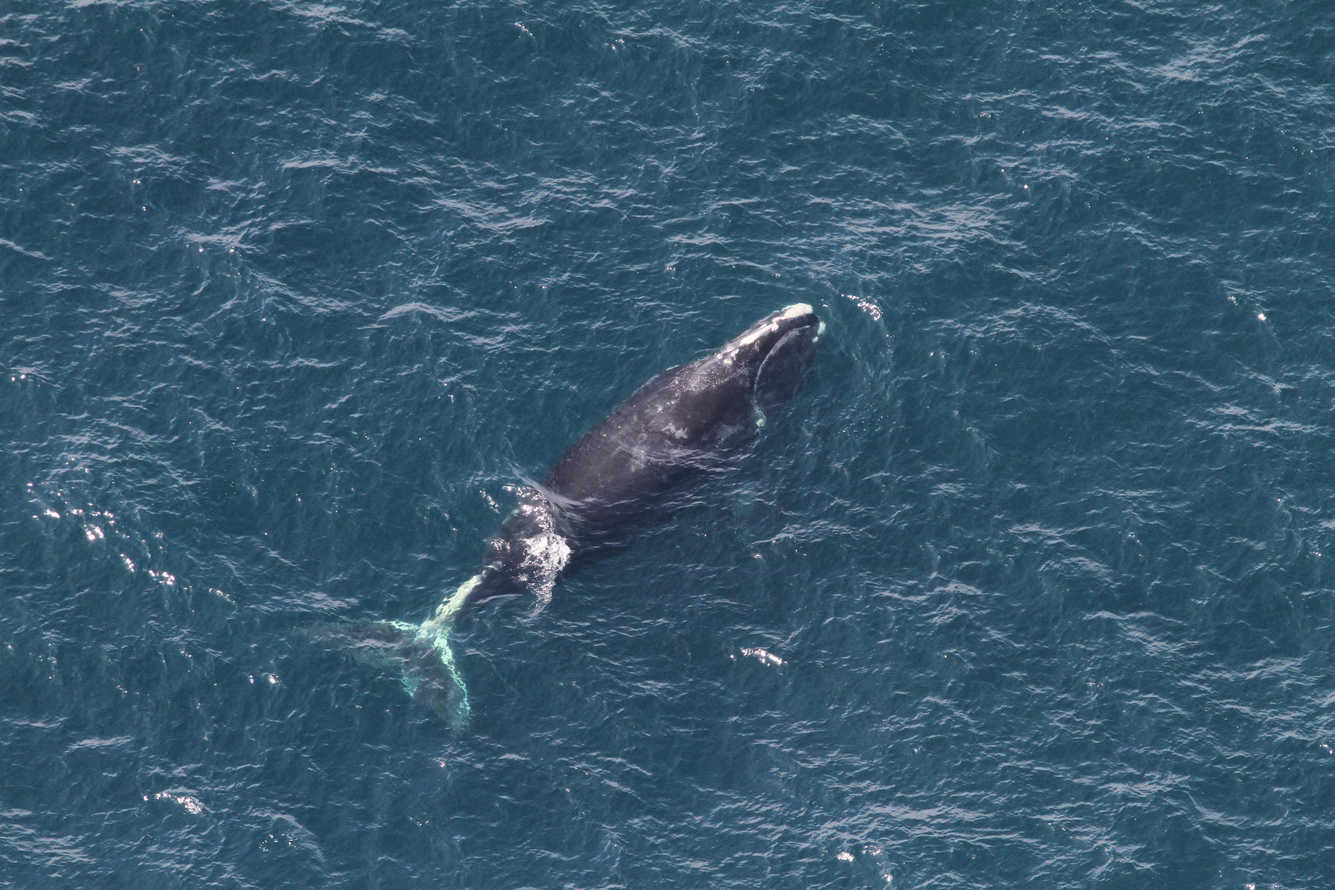whale: (291, 296, 834, 743)
